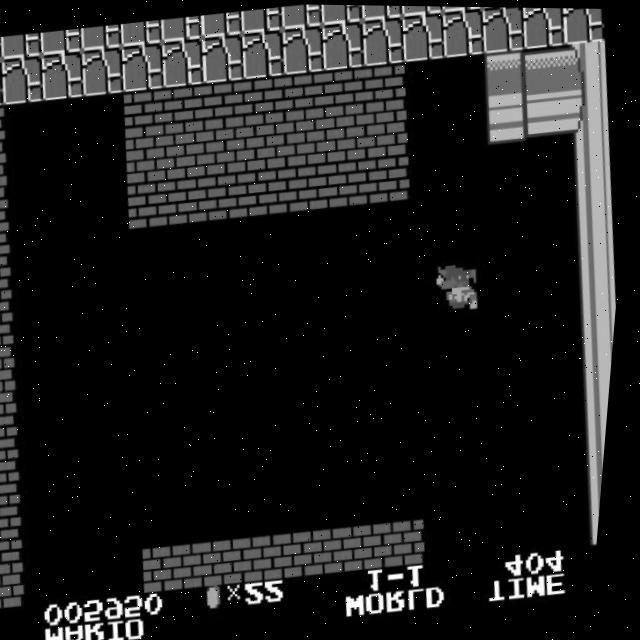1- brick_block: (201, 77, 251, 129), (244, 118, 294, 170), (348, 518, 398, 570), (324, 109, 374, 161), (321, 64, 371, 116), (121, 87, 171, 138), (228, 532, 278, 583), (364, 105, 414, 156), (188, 536, 237, 588), (164, 127, 213, 179), (162, 82, 211, 134), (268, 527, 317, 579), (308, 523, 357, 575), (148, 541, 197, 592), (124, 132, 173, 183), (167, 173, 216, 224), (207, 169, 256, 220), (204, 123, 253, 174), (242, 73, 291, 124), (287, 160, 336, 211), (284, 114, 333, 165), (282, 69, 331, 120), (327, 155, 376, 206), (388, 514, 437, 565), (367, 151, 416, 202), (362, 60, 411, 111), (127, 178, 176, 228), (247, 165, 296, 215), (0, 559, 37, 610), (0, 514, 34, 564), (0, 468, 32, 519), (0, 423, 29, 474), (0, 377, 26, 428), (0, 332, 24, 383), (0, 286, 21, 337), (0, 240, 18, 291), (0, 196, 15, 246), (0, 150, 12, 200), (0, 105, 10, 156)
11- little_mario: (434, 260, 486, 315)
14- pipe: (521, 42, 571, 94), (525, 87, 574, 139), (572, 220, 621, 272), (569, 174, 618, 226), (561, 38, 610, 90), (566, 130, 616, 180), (564, 84, 613, 135), (574, 266, 623, 316), (577, 310, 621, 361), (579, 356, 618, 407), (582, 402, 615, 452), (585, 447, 612, 497), (588, 492, 609, 543)
15- pipe_head: (484, 92, 533, 143), (482, 47, 531, 98)
17- undestructible_block: (79, 45, 128, 97), (119, 40, 168, 92), (239, 27, 288, 79), (319, 18, 368, 70), (359, 14, 408, 66), (439, 5, 488, 57), (39, 50, 88, 101), (159, 36, 208, 87), (199, 32, 248, 83), (279, 23, 328, 74), (399, 10, 448, 61), (0, 54, 48, 105), (479, 6, 528, 52), (518, 6, 567, 48), (559, 7, 607, 44), (79, 22, 124, 51), (119, 18, 164, 47), (199, 9, 244, 38), (39, 27, 84, 55), (159, 14, 204, 42), (239, 5, 284, 33), (0, 32, 44, 60), (279, 3, 324, 29), (319, 4, 363, 24), (359, 4, 403, 20), (399, 5, 443, 15), (0, 59, 7, 110), (439, 5, 482, 12)
